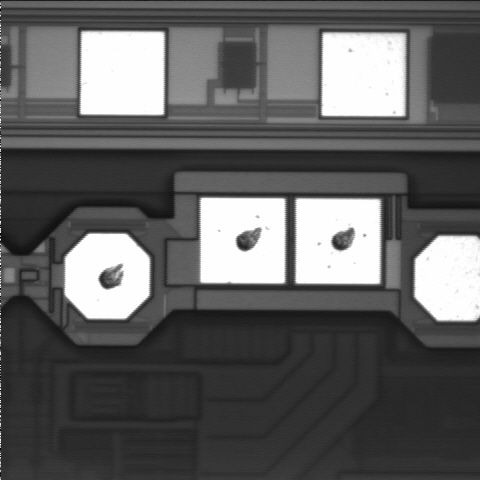pad: (65, 234, 150, 319), (201, 198, 285, 283), (296, 199, 380, 284), (81, 32, 164, 115), (322, 33, 405, 116)
